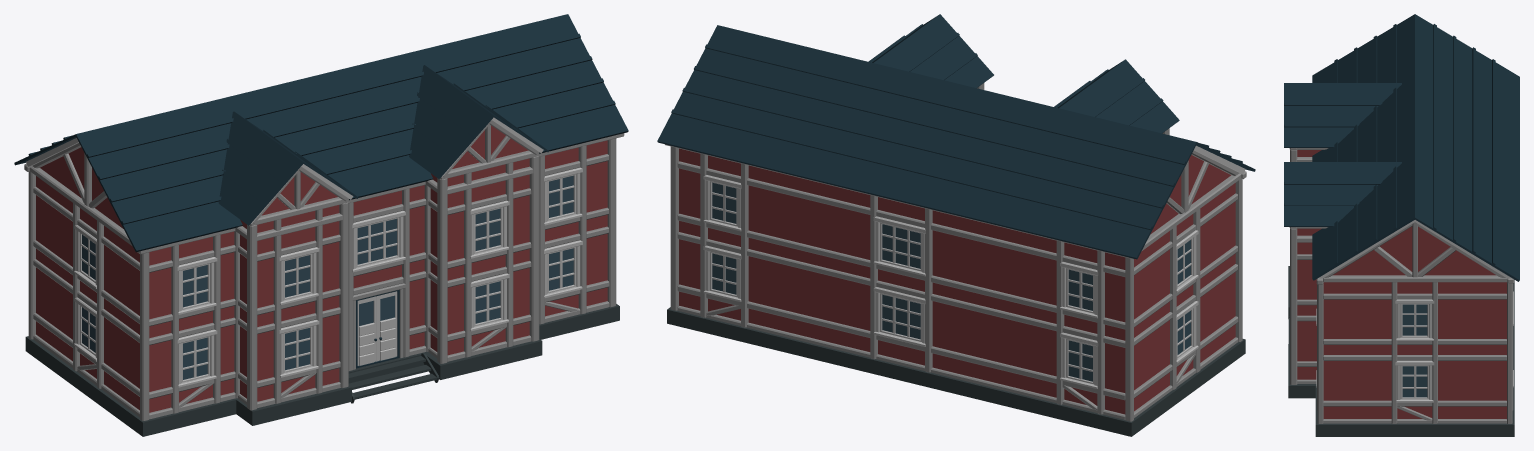
File: house_04.glb
3 views of the same model, side by side, from view 1: azimuth 30°, elevation 25°; view 2: azimuth 150°, elevation 25°; view 3: azimuth 270°, elevation 25° (orthographic). The views are drawn at different scales.
Parts seen in each view (by area): view 1: house_04; view 2: house_04; view 3: house_04.
Part boxes in pixels (x1,y1,x2,y2): house_04: (14, 14, 628, 436); house_04: (657, 14, 1255, 436); house_04: (1284, 14, 1519, 436).
Size of the model in its own units: 17.96 by 9.25 by 8.78.
Materials: 1 (1 with a texture image).
